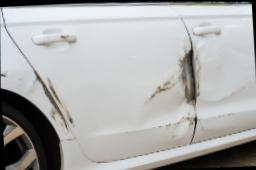Door: (27, 34, 196, 156), (193, 42, 209, 110)
Fender: (0, 63, 75, 140)
